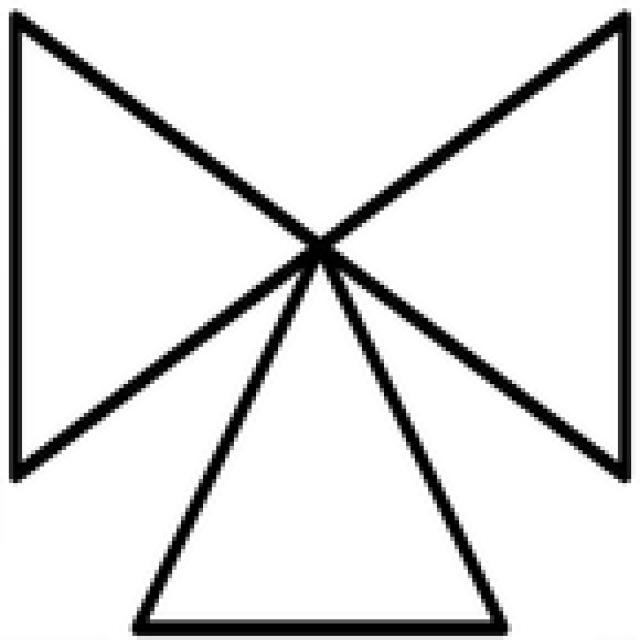3-way Valve: (321, 12, 628, 477), (137, 250, 500, 625), (17, 17, 311, 478)
